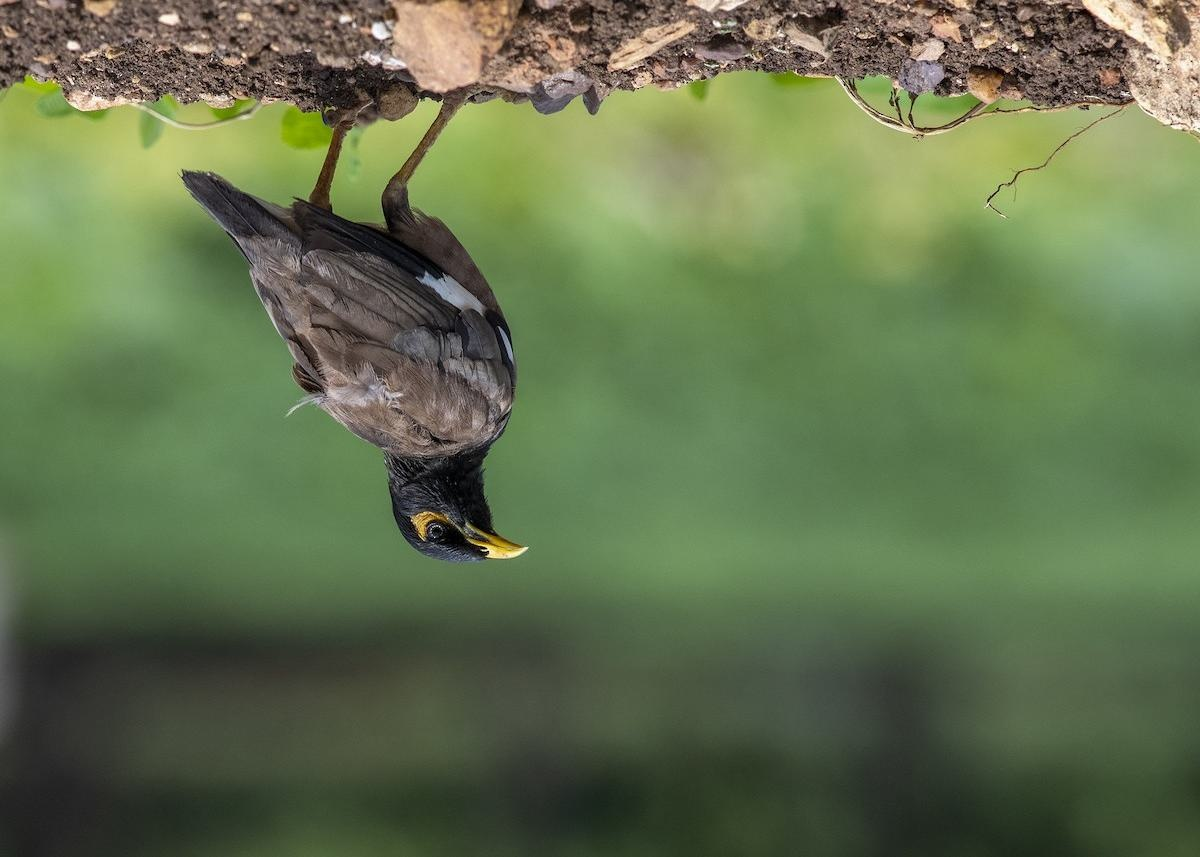myna: (185, 91, 547, 584)
